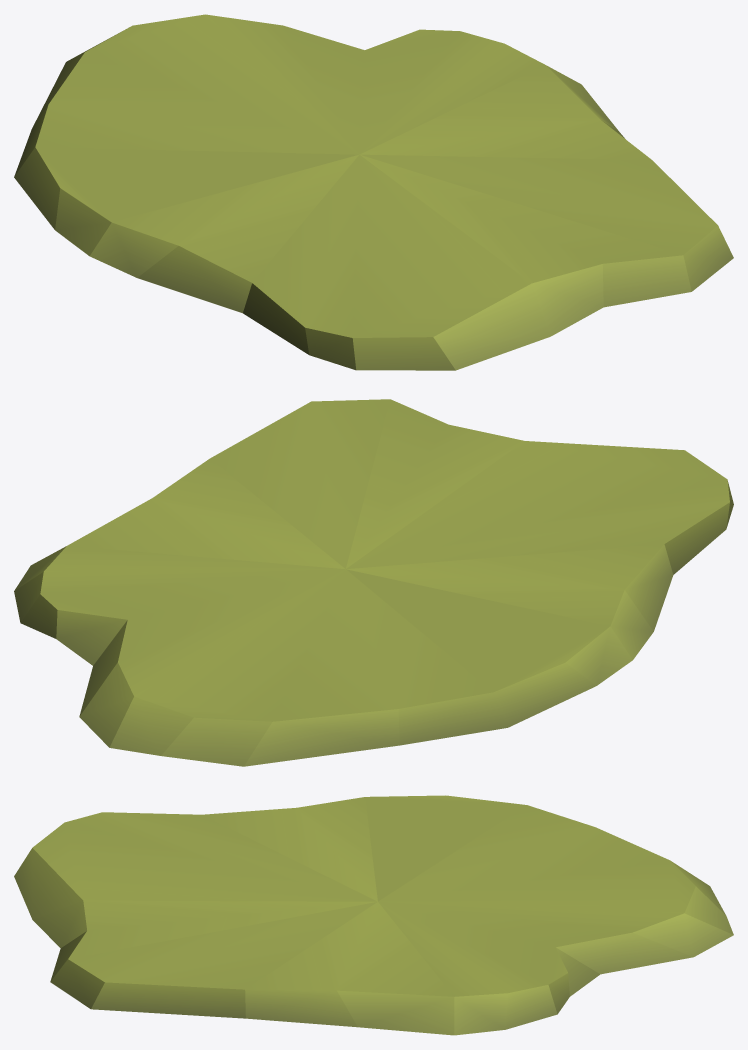
File: MainIslandCollision.fbx
3 renders of one model, top to bottom at view 1: azimuth 30°, elevation 25°; view 2: azimuth 150°, elevation 25°; view 3: azimuth 270°, elevation 25°, orthographic. The views are drawn at different scales.
Visible parts, largest first — view 1: MainIsland.002; view 2: MainIsland.002; view 3: MainIsland.002.
Boxes of the visible parts, box(x1,y1,x2,y2) form: MainIsland.002: box(14, 14, 733, 370); MainIsland.002: box(14, 399, 733, 766); MainIsland.002: box(14, 795, 733, 1035).
Bounding box in the file's own units: 1059 × 52.62 × 1439.
